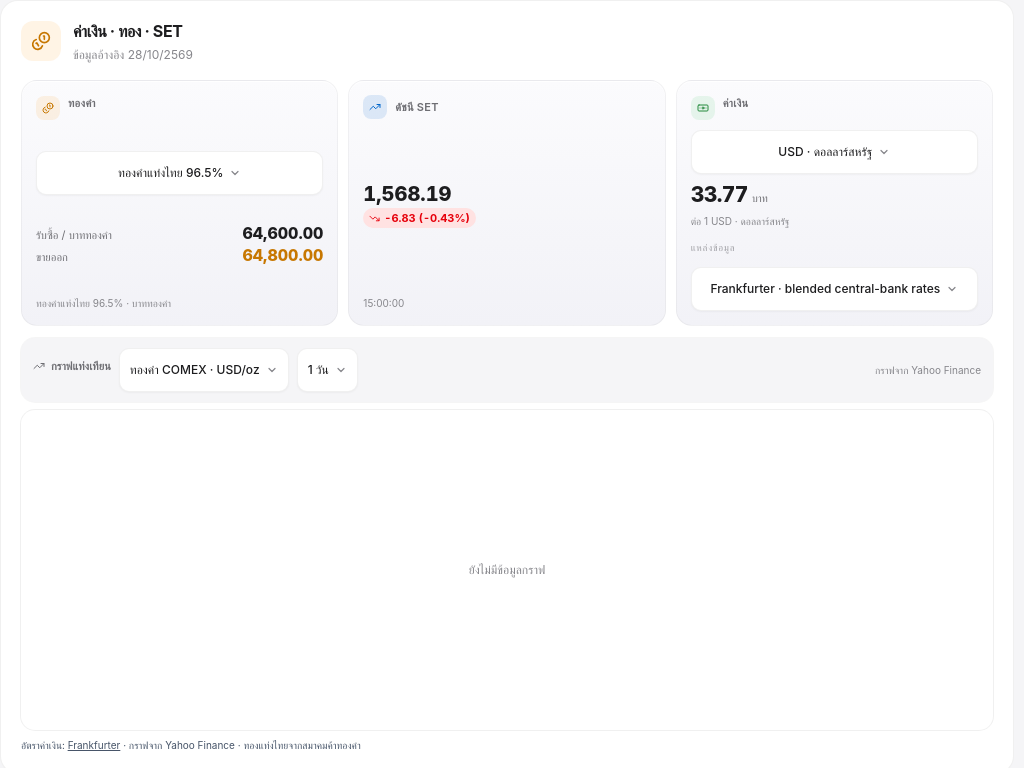
Test: MarketWidget › allows choosing a daily rate source and gold market
expect the dropdown named "เลือกสกุลเงิน" is shown: met, box [691,130,978,174]
Step 1. Click the dropdown named "เลือกแหล่งข้อมูลค่าเงิน" → x=834, y=289, box [691,267,978,311]
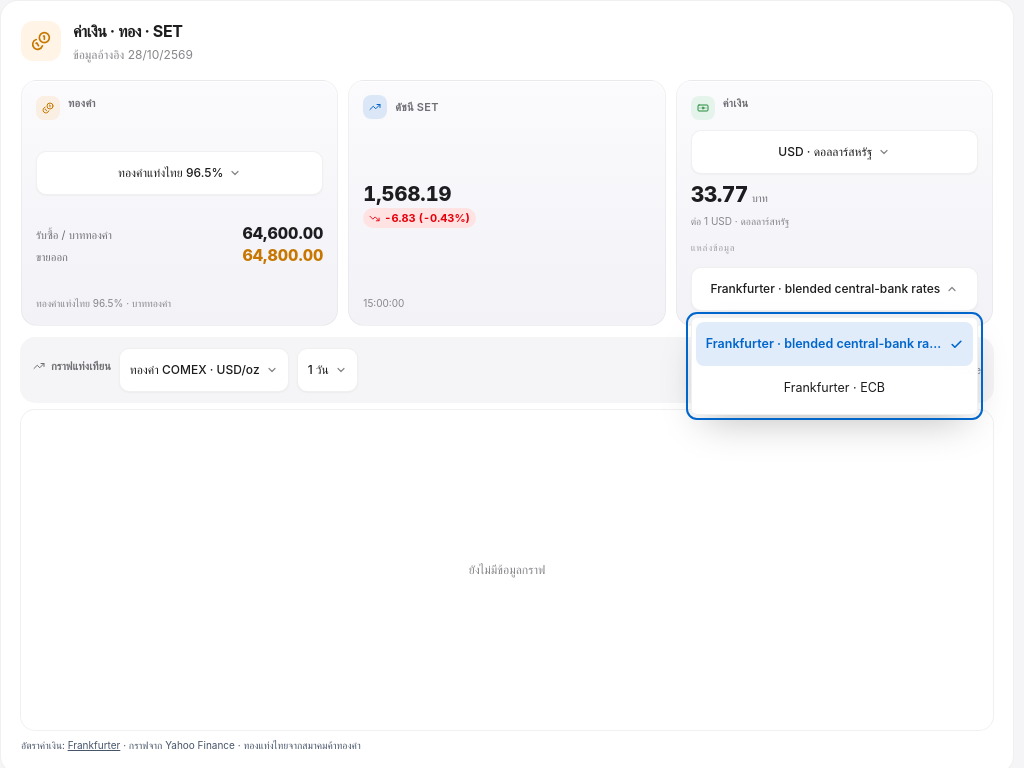
expect the option "Frankfurter · ECB" is shown: met, box [696,366,973,410]
Step 2. Press Escape in the list, box [691,317,978,415]
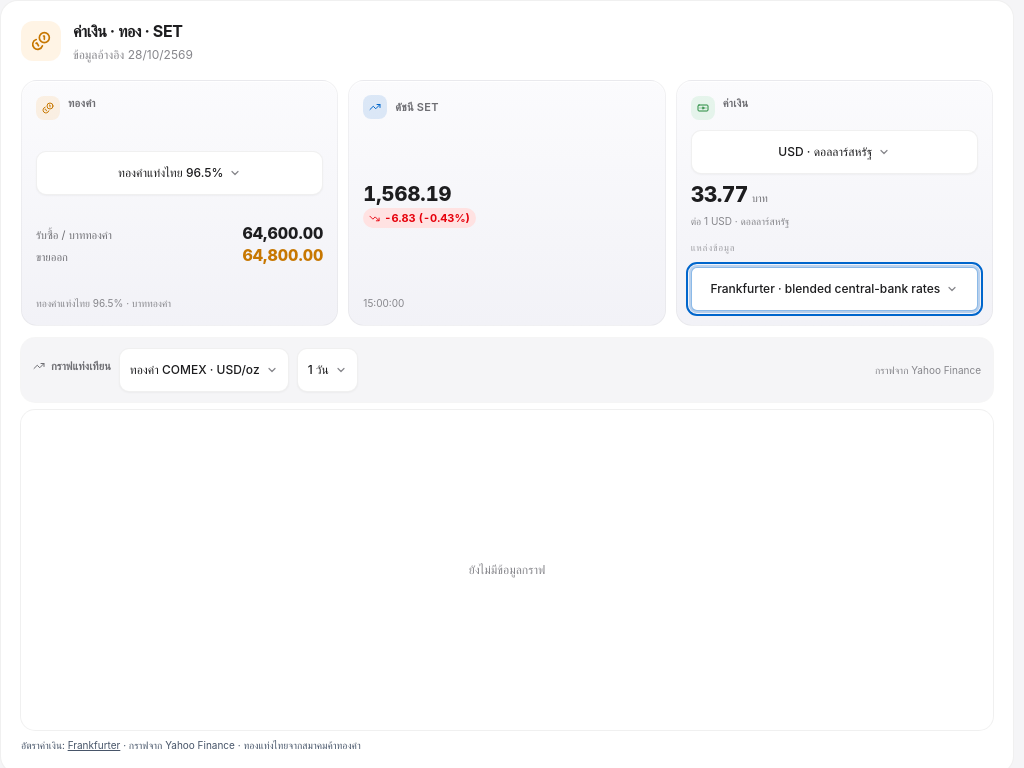
Step 3. Click the dropdown named "เลือกแหล่งข้อมูลค่าเงิน" → x=834, y=289, box [691,267,978,311]
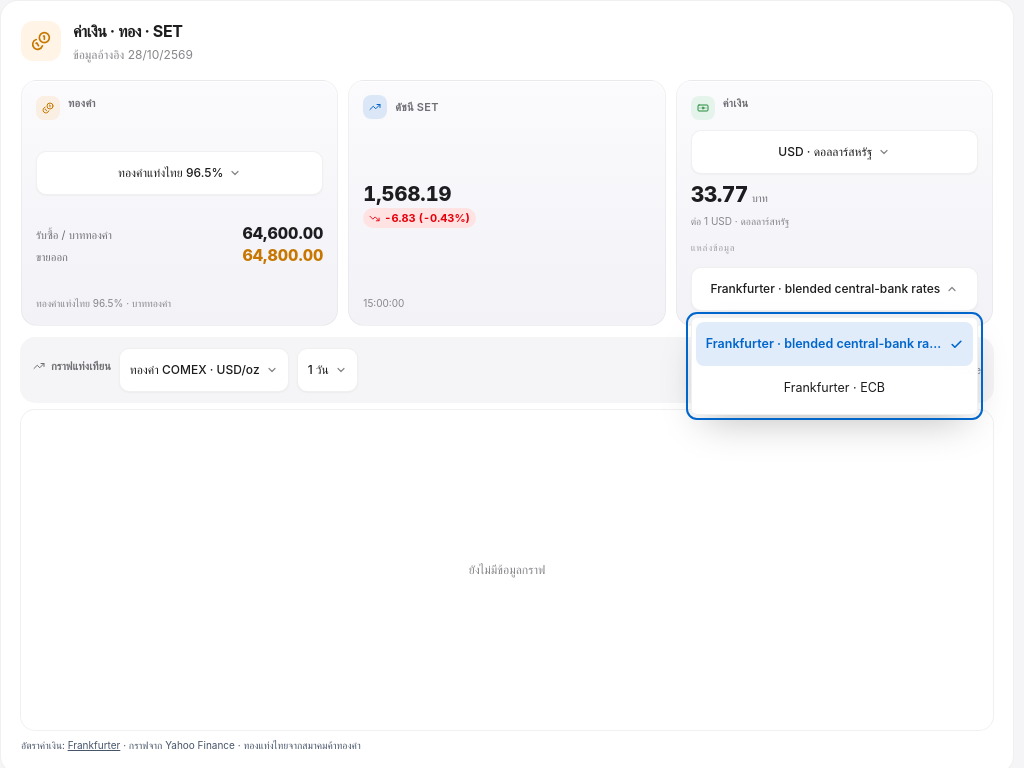
Step 4. Click the option "Frankfurter · ECB" → x=834, y=388, box [696,366,973,410]
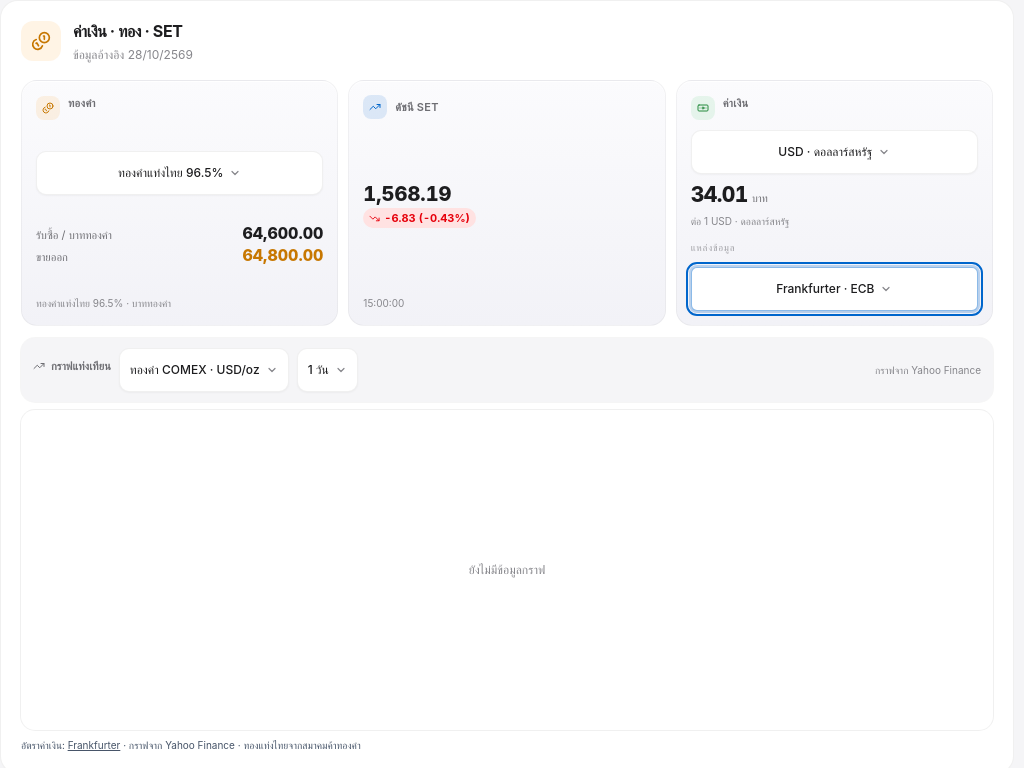
expect the text "34.01" is shown: met, box [691,184,748,205]
Step 5. Click the dropdown named "เลือกแหล่งราคาทอง" → x=180, y=173, box [36,151,323,195]
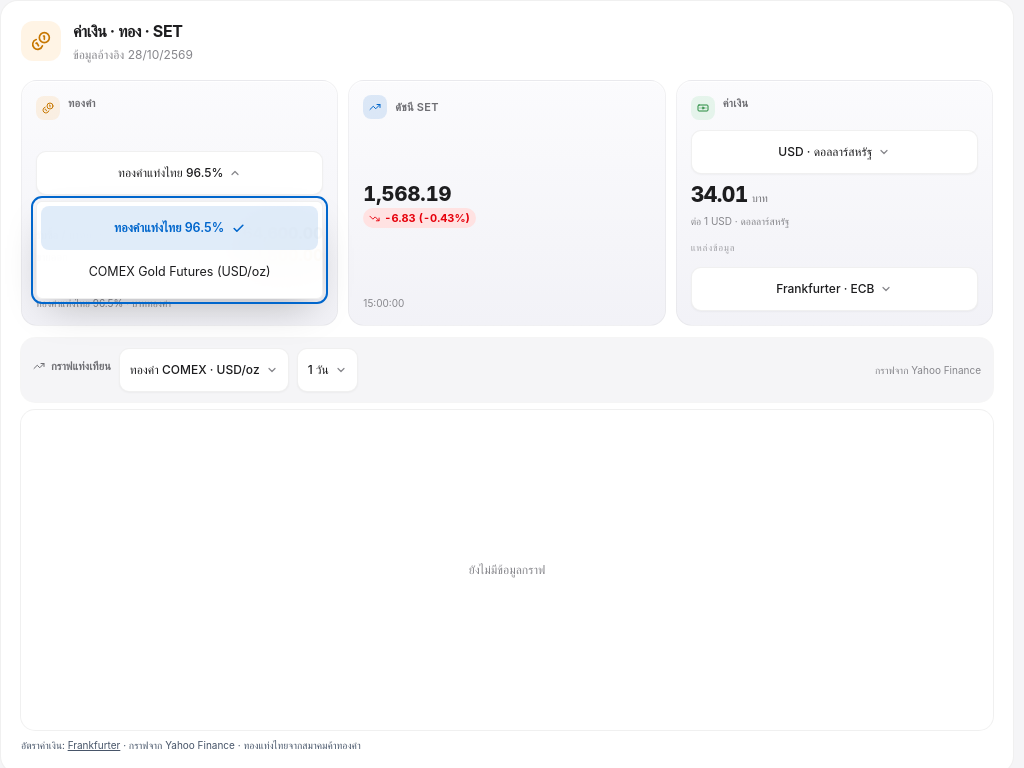
Step 6. Click the option "COMEX Gold Futures (USD/oz)" → x=180, y=272, box [41,250,318,294]
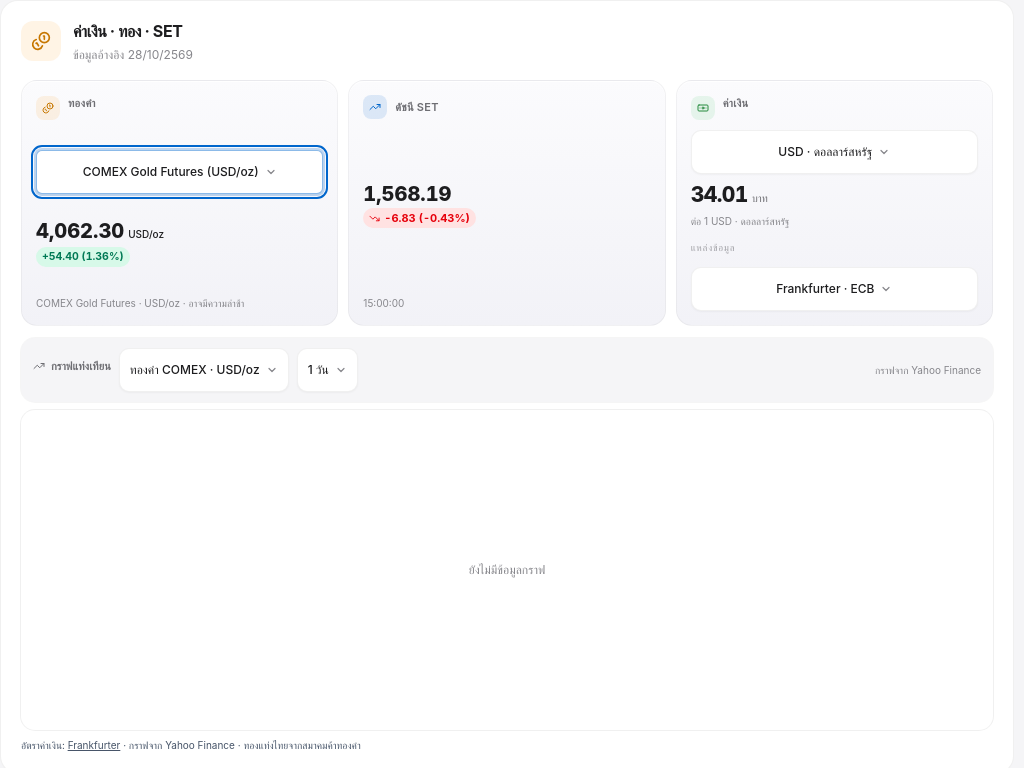
expect the text "4,062.30" is shown: met, box [36,219,124,243]
expect the text "COMEX Gold Futures · USD/oz · อาจมีความล่าช้า" is shown: met, box [36,297,244,309]
